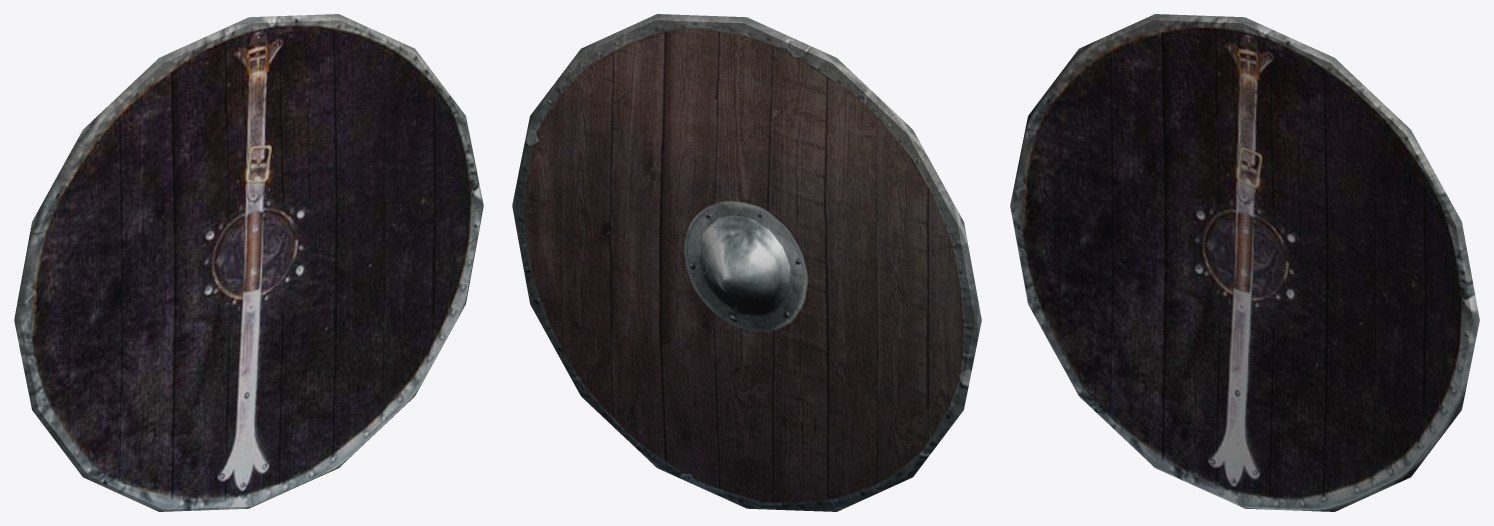
The model's file is Roundshield_LOD02.fbx.
3 views of the same model, side by side, from view 1: azimuth 30°, elevation 25°; view 2: azimuth 150°, elevation 25°; view 3: azimuth 330°, elevation 25° (orthographic).
Parts seen in each view (by area): view 1: Mesh Object; view 2: Mesh Object; view 3: Mesh Object.
Part boxes in pixels (x1,y1,x2,y2): Mesh Object: [14, 14, 483, 511]; Mesh Object: [512, 14, 981, 511]; Mesh Object: [1010, 14, 1479, 511].
Size of the model in its own units: 1 by 1 by 0.0978.
